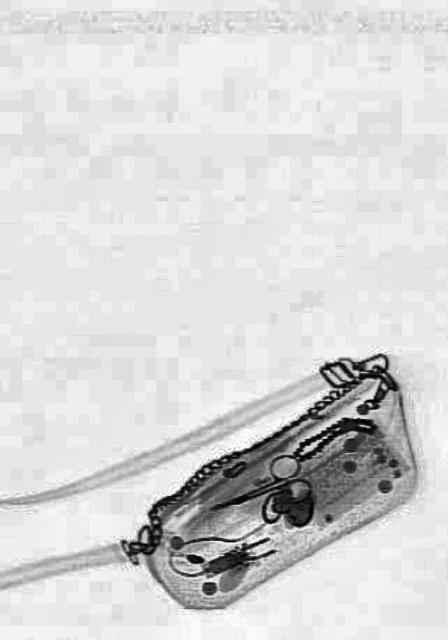Scissors: (206, 443, 312, 533)
